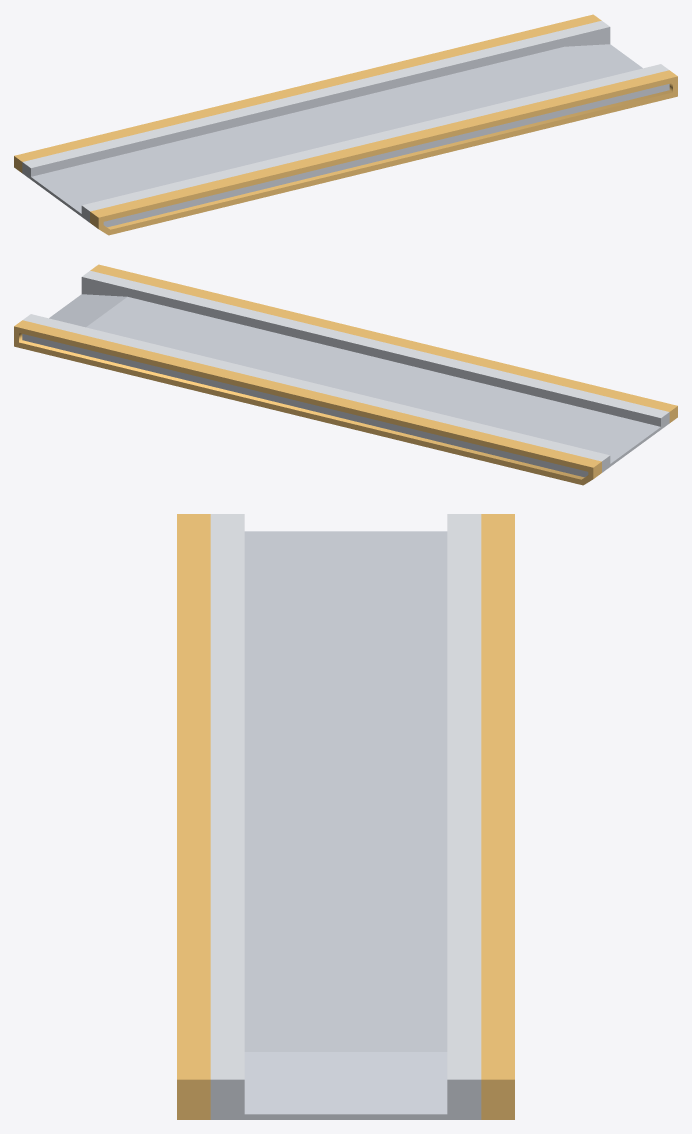
The model's file is Bridge.fbx.
3 renders of one model, top to bottom at view 1: azimuth 30°, elevation 25°; view 2: azimuth 150°, elevation 25°; view 3: azimuth 270°, elevation 25°, orthographic. The views are drawn at different scales.
Parts seen in each view (by area): view 1: platform_straight.001; view 2: platform_straight.001; view 3: platform_straight.001.
Part boxes in pixels (x1,y1,x2,y2): platform_straight.001: [14, 14, 677, 235]; platform_straight.001: [14, 264, 677, 485]; platform_straight.001: [177, 514, 514, 1119].
Bounding box in the file's own units: 300 × 10 × 75.85.
